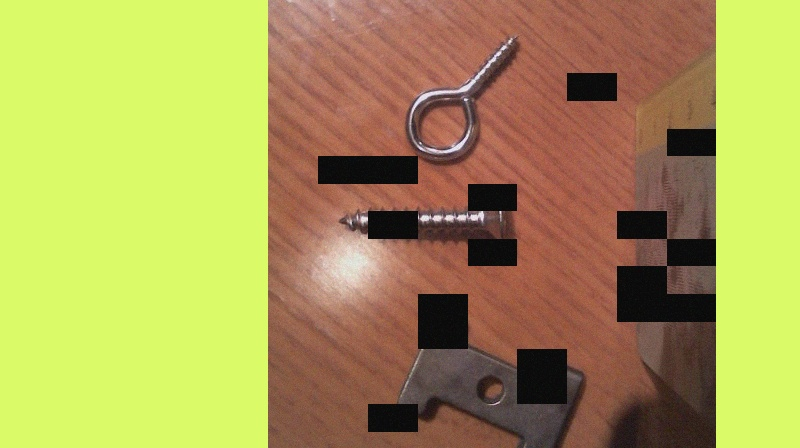O001: (401, 32, 524, 167)
O002: (393, 305, 585, 447)
S001: (337, 186, 512, 247)
